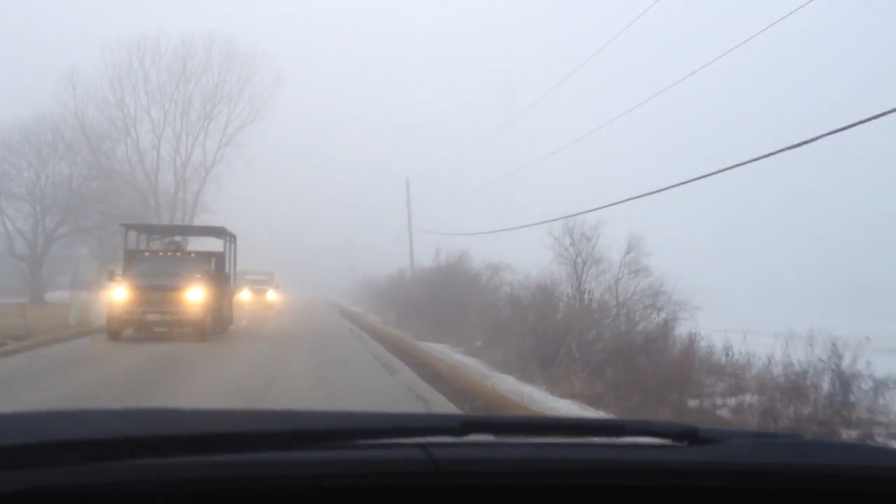bus: (102, 220, 238, 341)
car: (237, 275, 281, 310)
